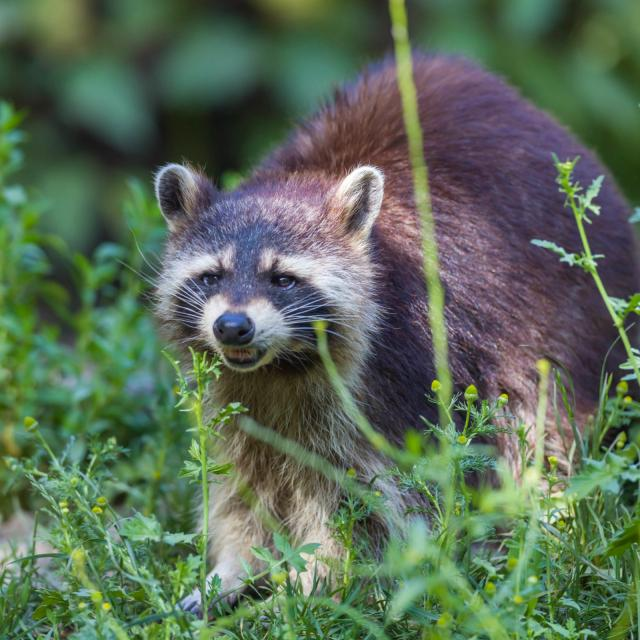raccoon: (155, 53, 625, 514)
